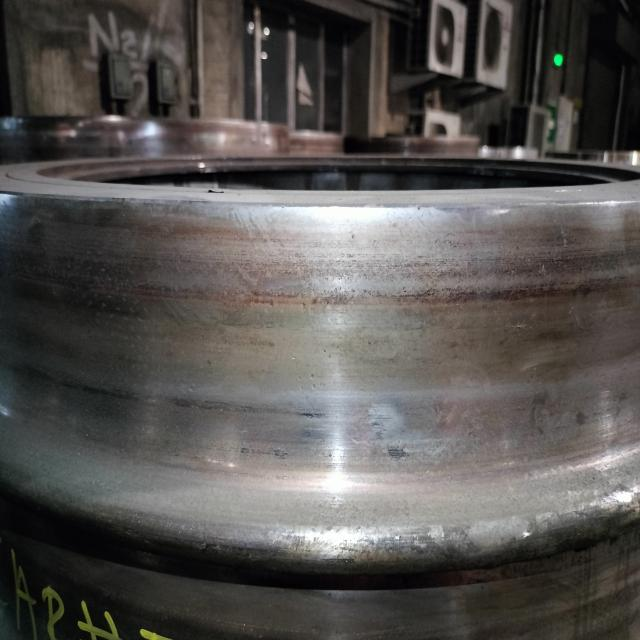flat: (236, 359, 491, 464)
